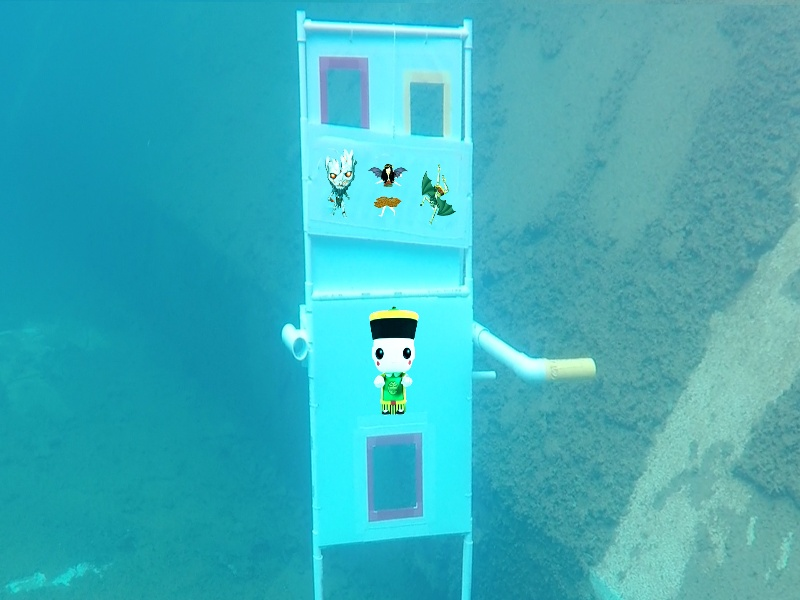Aswang: (368, 163, 409, 217)
Draugr: (323, 148, 358, 215)
Jiangshi: (367, 303, 417, 417)
Vetalas: (417, 162, 457, 223)
